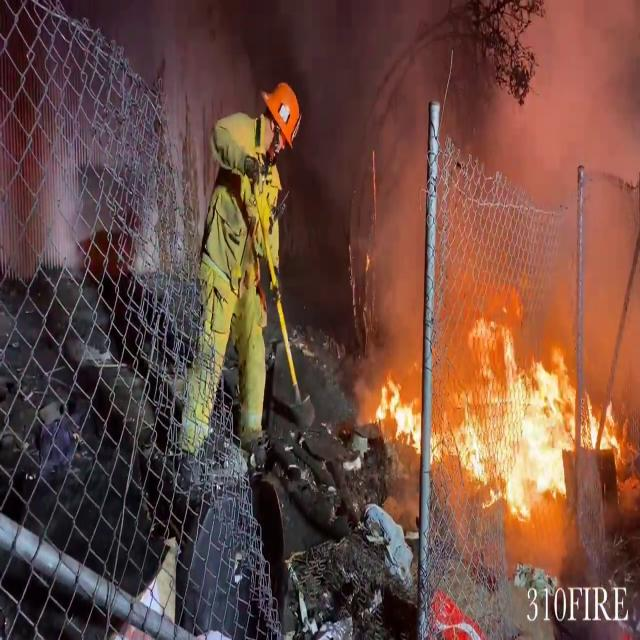Fire: (457, 280, 618, 518), (379, 364, 456, 469)
Smoke: (51, 149, 83, 281)
